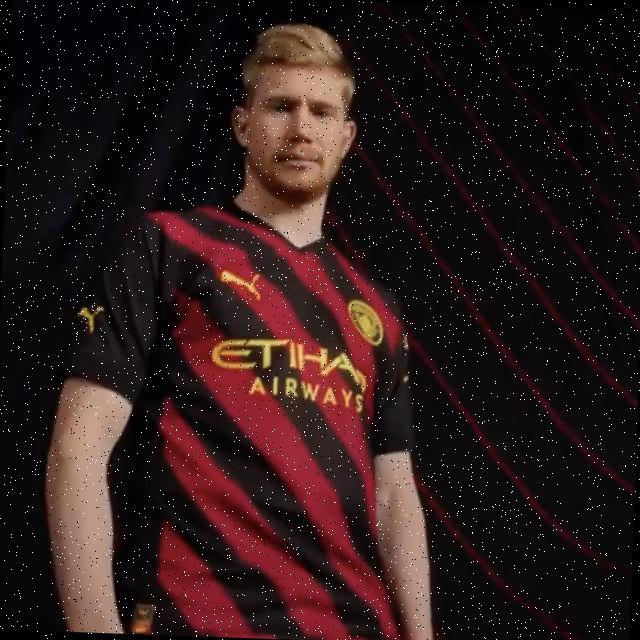Etihad Airways: (209, 337, 368, 411)
Puma: (219, 270, 262, 301), (79, 305, 103, 332)
